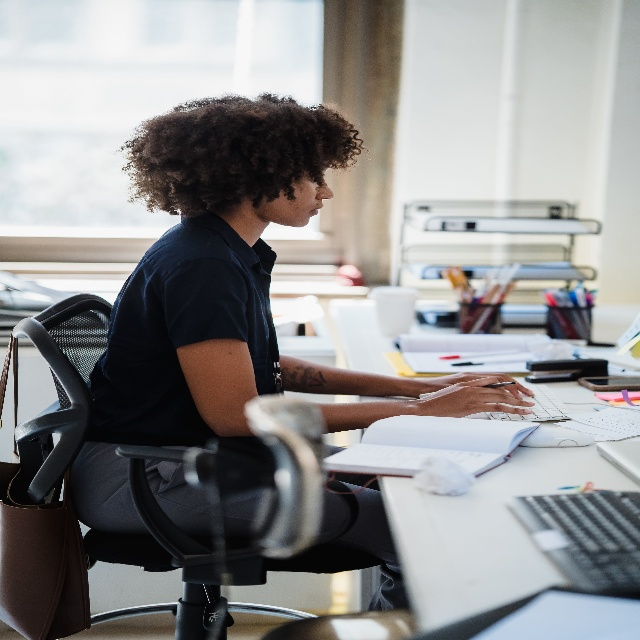Sin_guantes: (420, 376, 535, 420), (431, 370, 535, 398)
